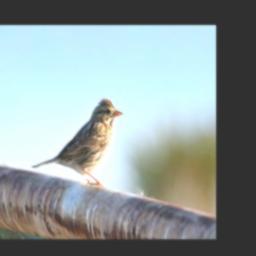Sparrow: (30, 97, 124, 187)
